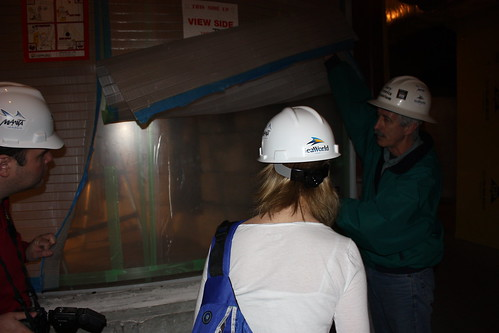person hardhat: (214, 105, 370, 333), (337, 70, 438, 333), (1, 76, 71, 326)
